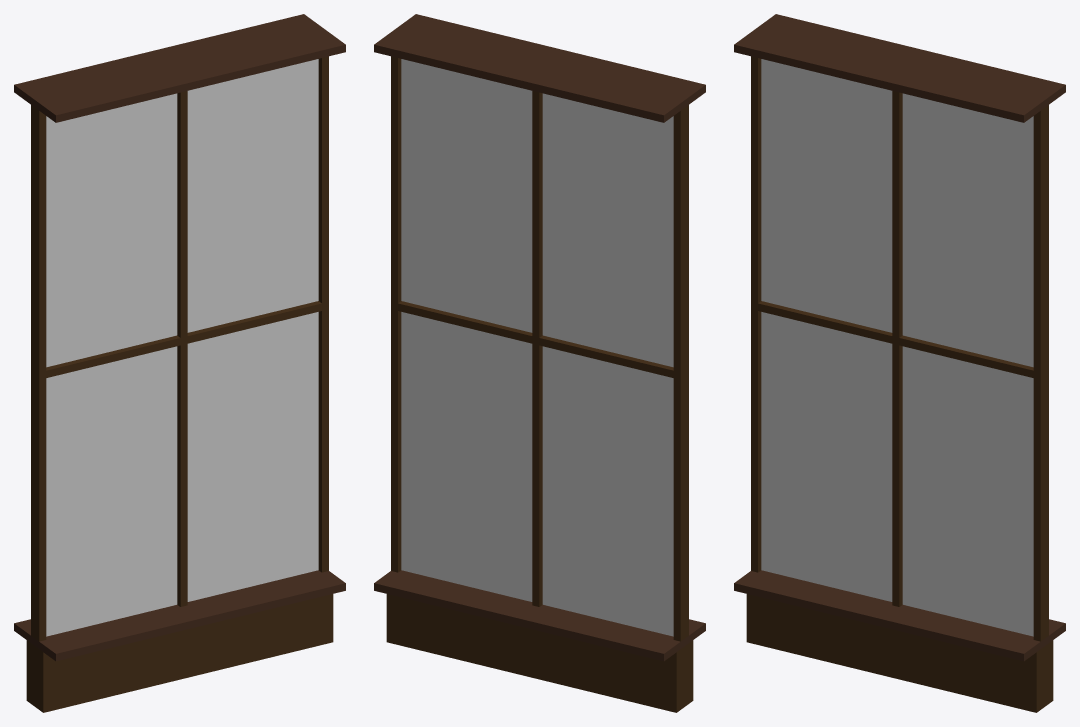
The model's file is window.fbx.
The picture shows the model from 3 angles, left to right: view 1: azimuth 30°, elevation 25°; view 2: azimuth 150°, elevation 25°; view 3: azimuth 330°, elevation 25°; orthographic projection.
Parts seen in each view (by area): view 1: Window; view 2: Window; view 3: Window.
Part boxes in pixels (bbox=[...]): Window: bbox=[14, 14, 345, 712]; Window: bbox=[374, 14, 705, 712]; Window: bbox=[734, 14, 1065, 712].
Bounding box in the file's own units: 100 × 200 × 25.
